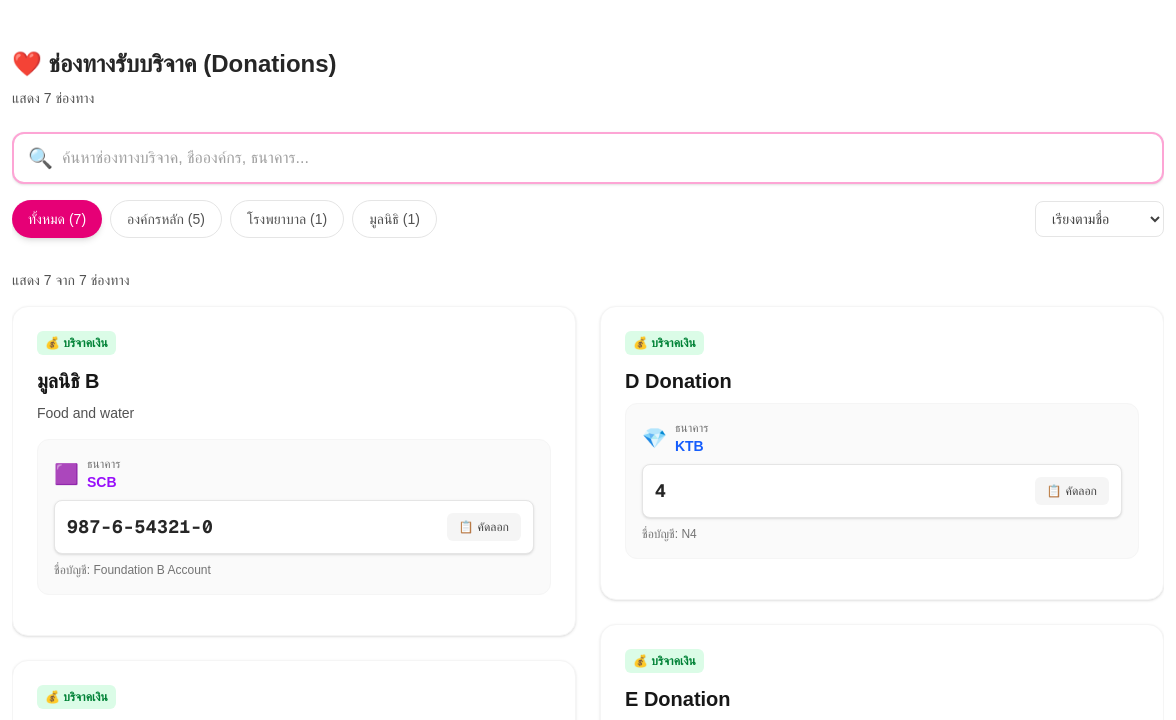
DonationsSection › filters by category
Filter by "โรงพยาบาล" - button text includes count
Click the button "โรงพยาบาล (1)": click(287, 219) left=230, top=200, right=344, bottom=238
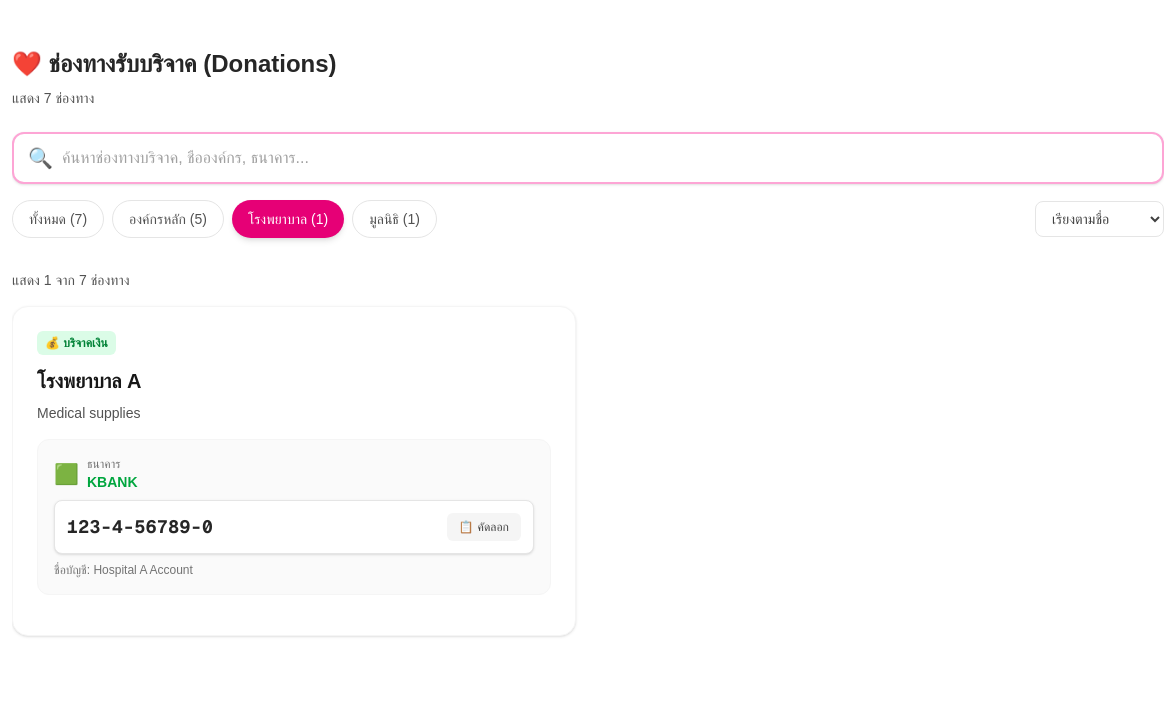
expect the heading "โรงพยาบาล A" is shown: met, box left=37, top=370, right=142, bottom=392
expect the heading "มูลนิธิ B" is gone: met
Filter by "มูลนิธิ"
Click the button "มูลนิธิ (1)": click(395, 219) left=352, top=200, right=437, bottom=238
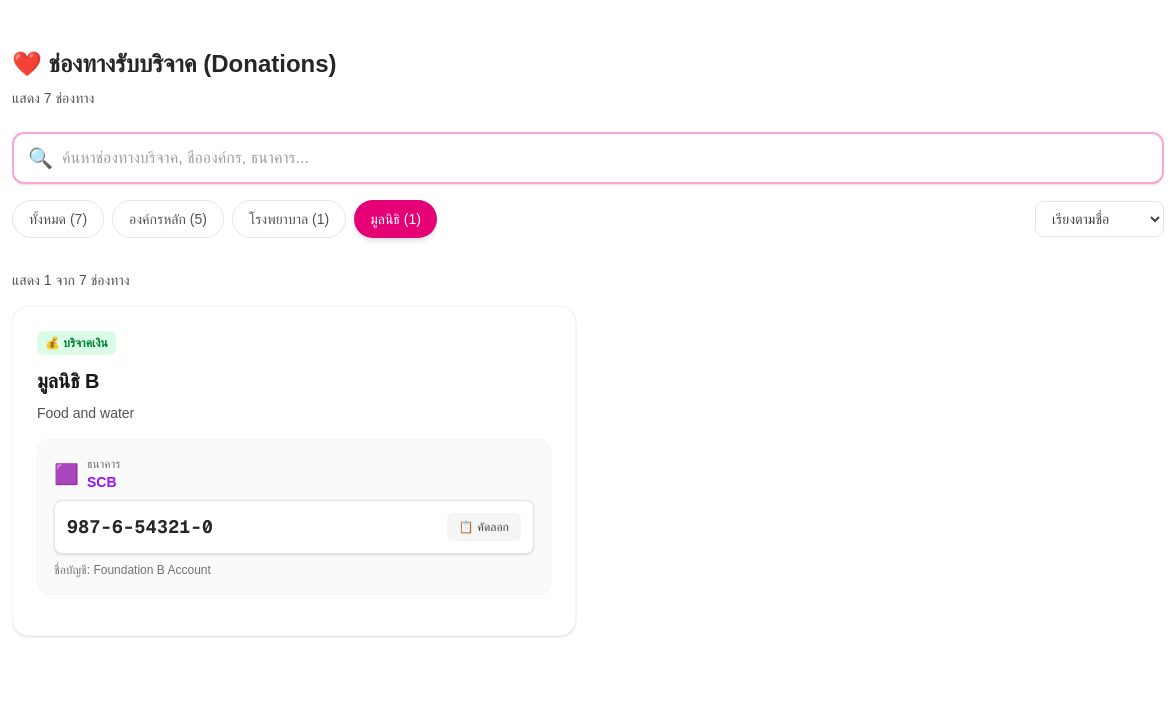
expect the heading "มูลนิธิ B" is shown: met, box left=37, top=370, right=100, bottom=392
expect the heading "โรงพยาบาล A" is gone: met
